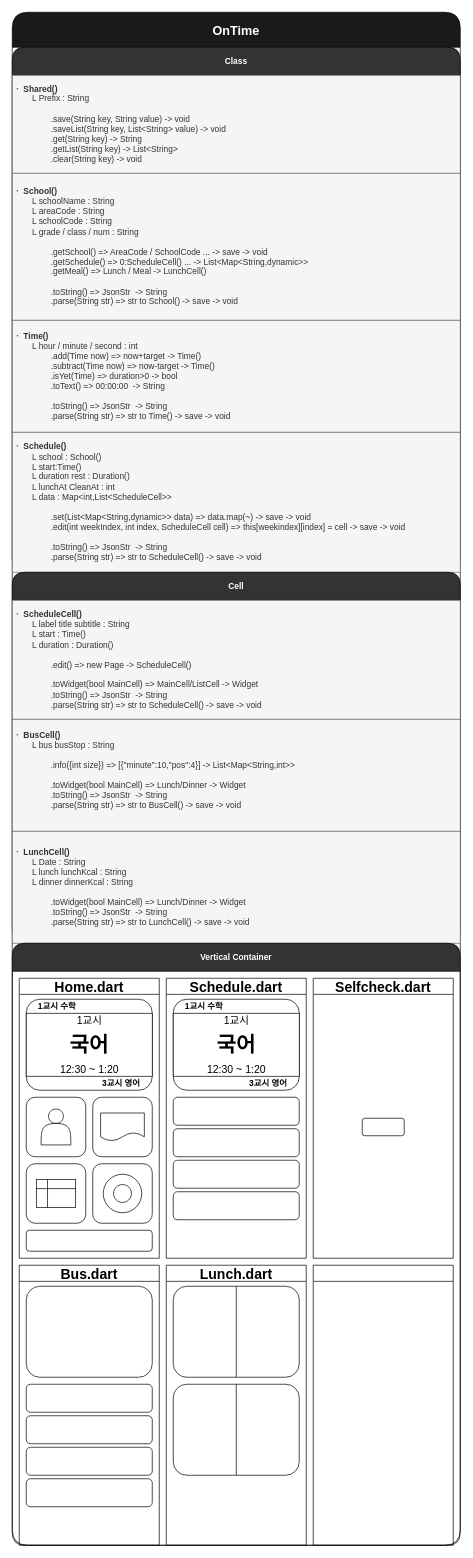
This 473x1558 diagram has some shape labels left out. Each missing label, with the centre of its shape:
Setting.dart: [383,1405]
자가진단을 하지 않았습니다: [89,1240]
